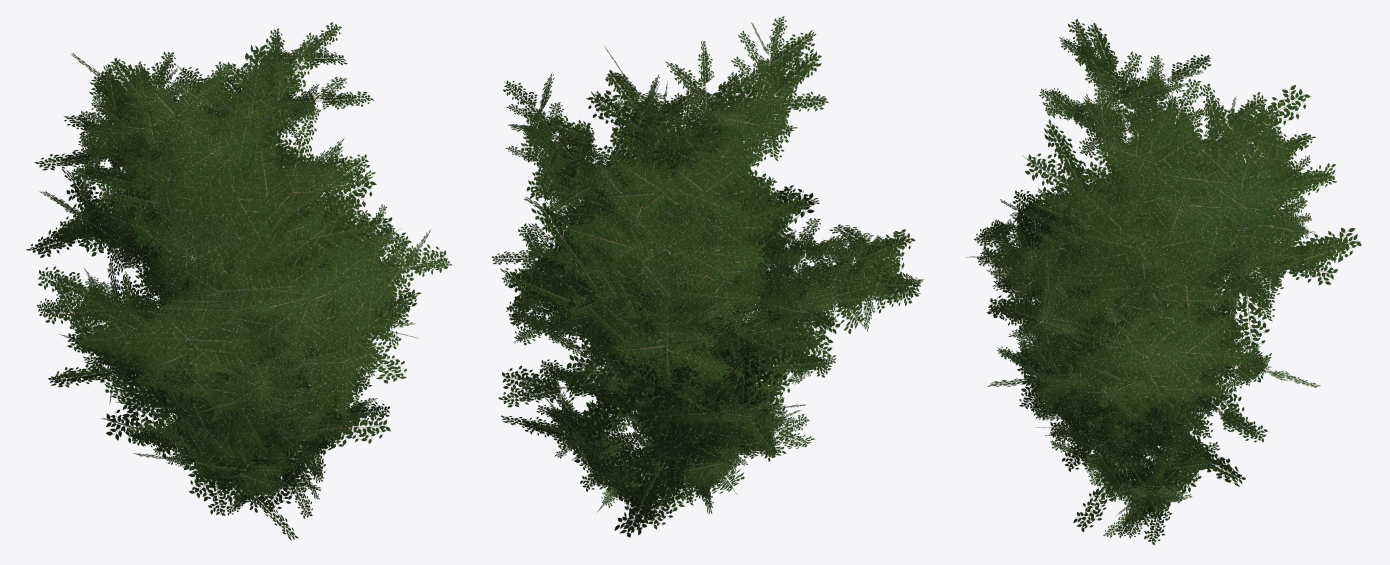
The model's file is cherry_leaf.glb.
3 renders of one model, left to right at view 1: azimuth 30°, elevation 25°; view 2: azimuth 150°, elevation 25°; view 3: azimuth 270°, elevation 25°, orthographic. The views are drawn at different scales.
Visible parts, largest first — view 1: cherry_a_l1, cherry_a, cherry_a_l2, cherry_b_l2, cherry_b_l1, cherry_b; view 2: cherry_a, cherry_a_l1, cherry_a_l2, cherry_b, cherry_b_l2, cherry_b_l1; view 3: cherry_a, cherry_a_l1, cherry_a_l2, cherry_b_l2, cherry_b_l1, cherry_b.
Boxes of the visible parts, x1=… form: cherry_a_l1: x1=38, y1=38, x2=373, y2=495; cherry_a: x1=37, y1=22, x2=395, y2=477; cherry_a_l2: x1=26, y1=45, x2=392, y2=502; cherry_b_l2: x1=79, y1=99, x2=448, y2=540; cherry_b_l1: x1=130, y1=189, x2=417, y2=515; cherry_b: x1=139, y1=196, x2=451, y2=518; cherry_a: x1=503, y1=16, x2=923, y2=503; cherry_a_l1: x1=498, y1=30, x2=920, y2=509; cherry_a_l2: x1=500, y1=73, x2=919, y2=537; cherry_b: x1=492, y1=177, x2=810, y2=510; cherry_b_l2: x1=501, y1=151, x2=833, y2=529; cherry_b_l1: x1=506, y1=184, x2=815, y2=511; cherry_a: x1=966, y1=32, x2=1329, y2=472; cherry_a_l1: x1=974, y1=19, x2=1332, y2=471; cherry_a_l2: x1=1006, y1=85, x2=1361, y2=486; cherry_b_l2: x1=980, y1=165, x2=1254, y2=532; cherry_b_l1: x1=996, y1=189, x2=1261, y2=545; cherry_b: x1=992, y1=195, x2=1273, y2=538.
Bounding box in the file's own units: 7.9 × 9.48 × 7.6.
1 material, 1 textured.
